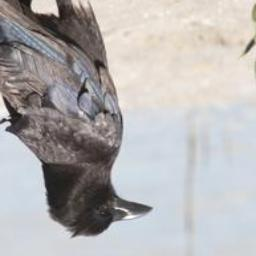Crow: (0, 0, 155, 240)
